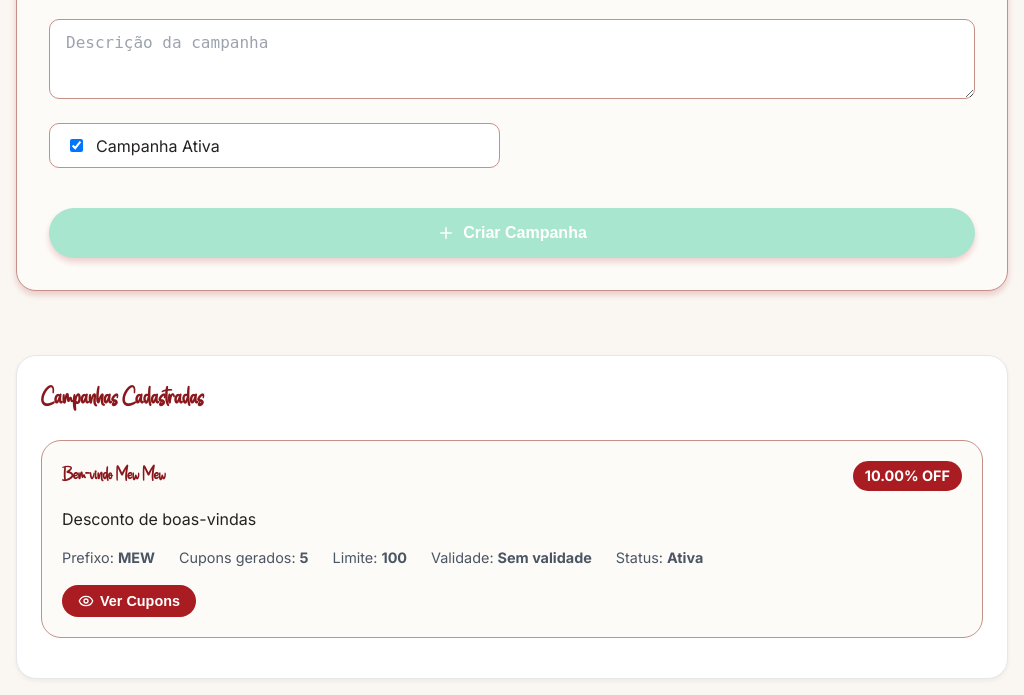
Test case: AdminCupons Component › deve listar cupons resgatados ao expandir campanha
(page scrolled)
Expected: the heading "Bem-vindo Mew Mew" is shown, [62,463,165,489]
Clicar para ver cupons da campanha
Click the button "Ver Cupons" at (129, 601), box [62,585,196,617]
(page scrolled)
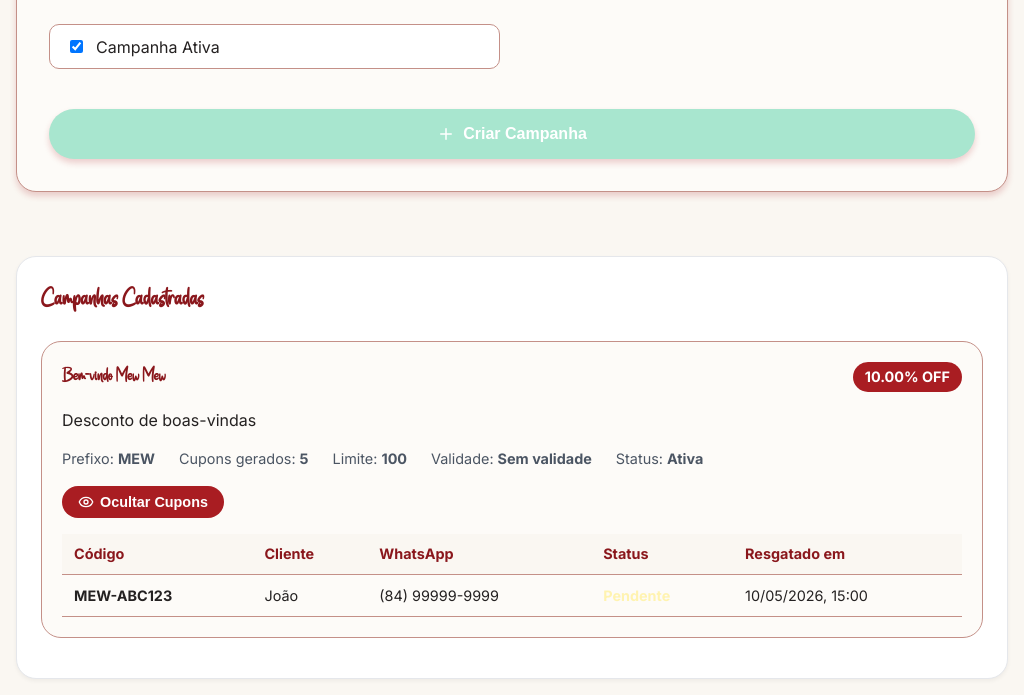
Now the text "MEW-ABC123" is shown, box [74,587,172,604]
